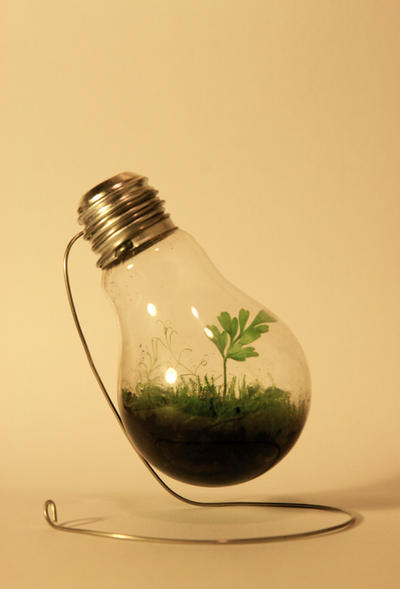Light_bulb: (75, 166, 322, 488)
